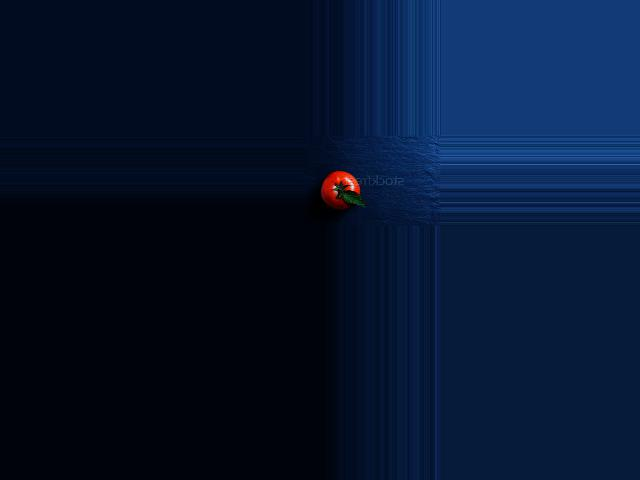tomato: (320, 171, 360, 209)
